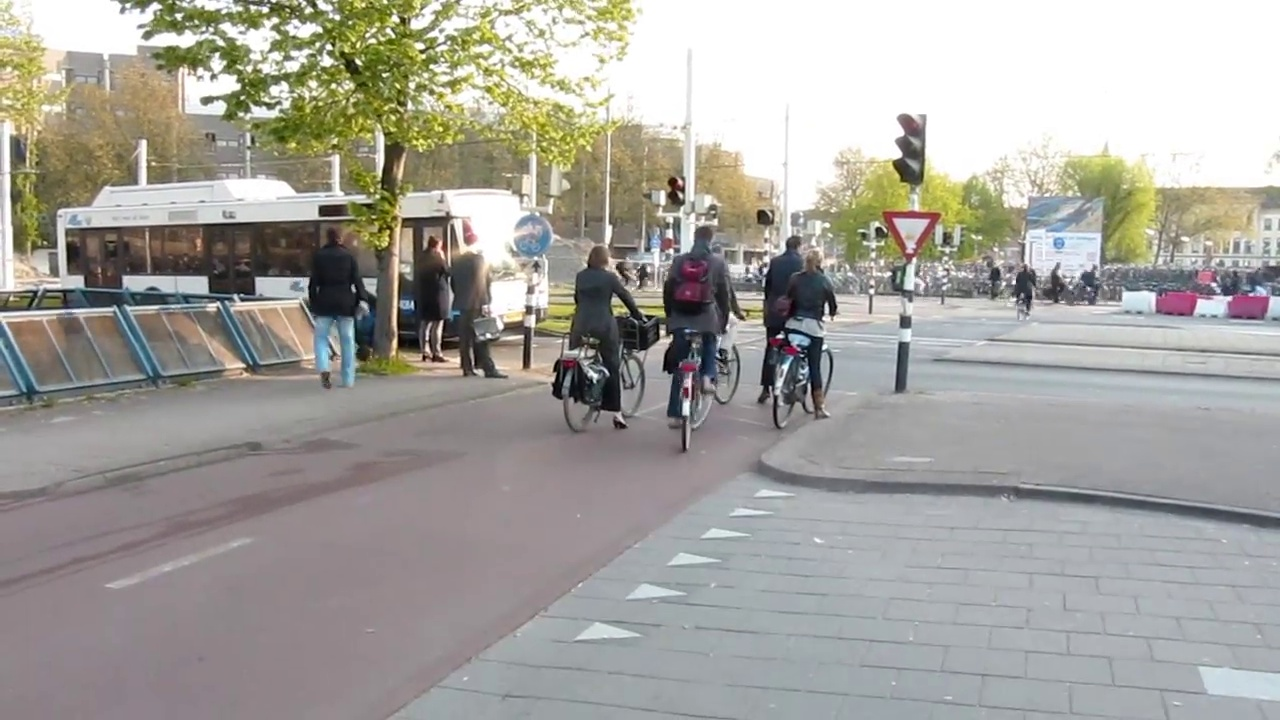cyclist_back: (550, 235, 655, 434), (661, 222, 721, 462), (771, 242, 838, 430), (1004, 258, 1033, 322)
